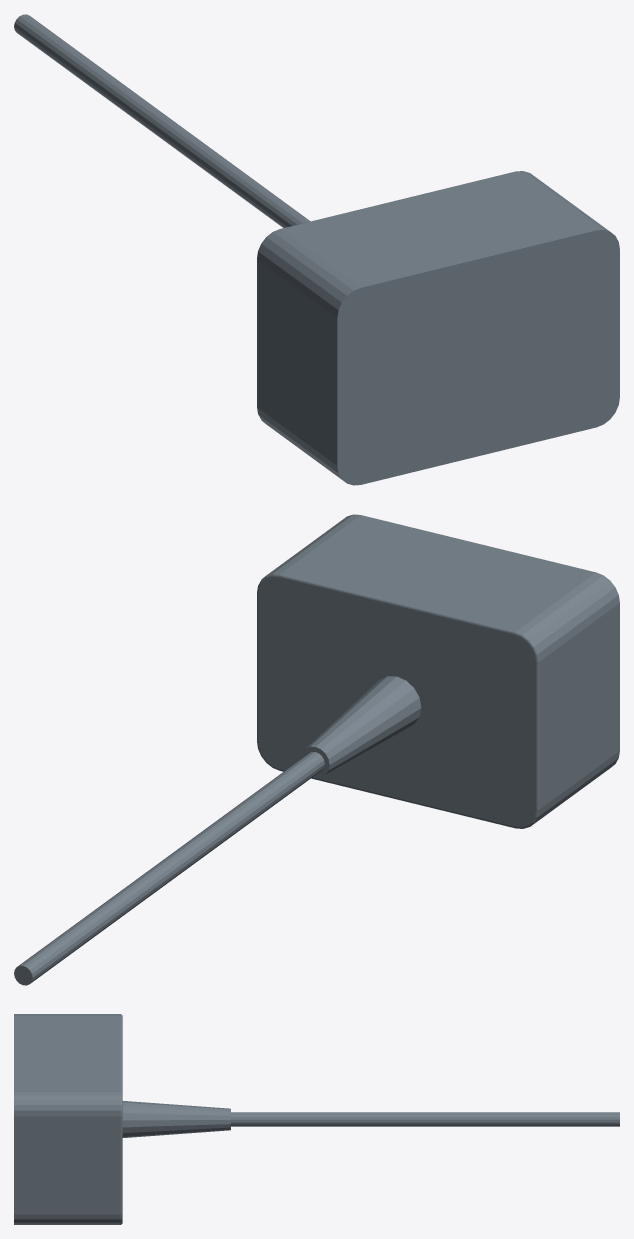
The model's file is HumiditySensor.glb.
3 renders of one model, top to bottom at view 1: azimuth 30°, elevation 25°; view 2: azimuth 150°, elevation 25°; view 3: azimuth 270°, elevation 25°, orthographic. The views are drawn at different scales.
Parts seen in each view (by area): view 1: child.001, child.002; view 2: child.001, child.002; view 3: child.001, child.002.
Part boxes in pixels (left/top/right/bottom): child.001: left=257, top=171, right=619, bottom=485; child.002: left=14, top=14, right=310, bottom=227; child.001: left=257, top=514, right=619, bottom=828; child.002: left=14, top=676, right=421, bottom=985; child.001: left=14, top=1014, right=122, bottom=1224; child.002: left=122, top=1101, right=619, bottom=1137.
Size of the model in its own units: 120 by 80 by 335.
